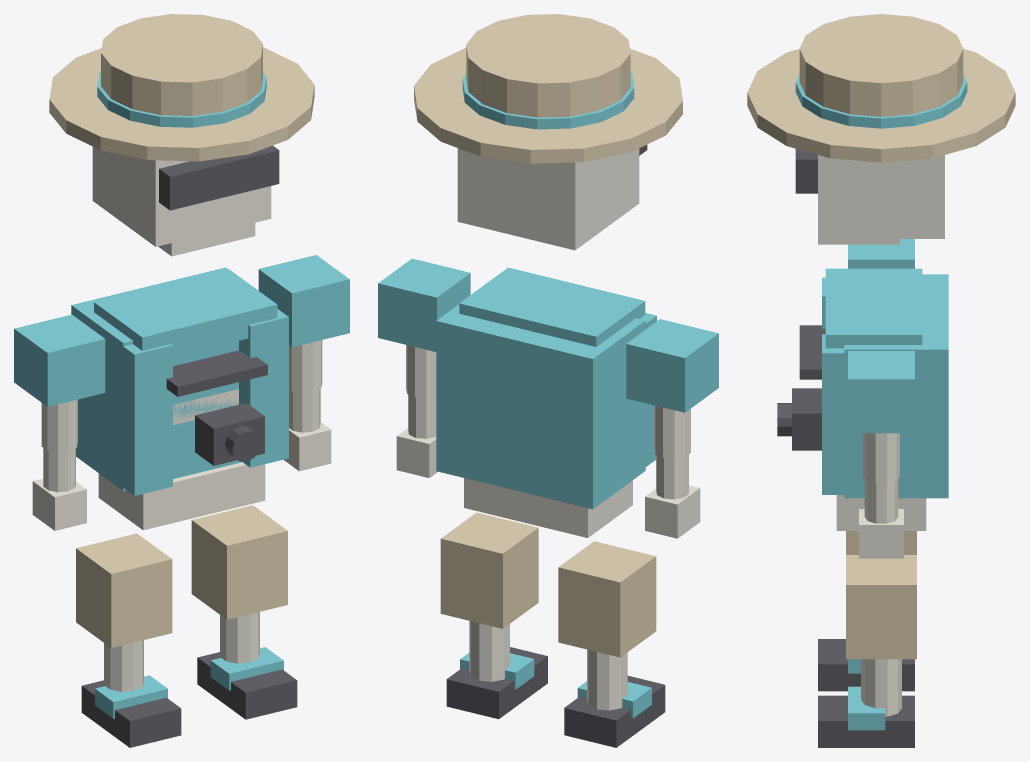
Rendered from skeleton-tourist.glb.
3 renders of one model, left to right at view 1: azimuth 30°, elevation 25°; view 2: azimuth 150°, elevation 25°; view 3: azimuth 270°, elevation 25°, orthographic.
Visible parts, largest first — view 1: HatCrown, HatBrim, ShirtCollar, Shorts_R, Shorts_L, Skull, ShirtBack, ShirtLapel_L, Sleeve_L, Pelvis, Sleeve_R, ShirtLapel_R (+19 smaller); view 2: ShirtBack, HatCrown, HatBrim, Skull, Shorts_L, Shorts_R, ShirtCollar, Sleeve_L, Sleeve_R, Pelvis, Sandal_R, Sandal_L (+12 smaller); view 3: HatCrown, HatBrim, Skull, ShirtBack, ShirtCollar, Shorts_R, Sleeve_R, ShirtLapel_R, Sandal_R, HatBand, Sandal_L, Femur_R (+12 smaller).
Boxes of the visible parts, <box> form: HatCrown: <box>101,14,262,115</box>; HatBrim: <box>49,47,314,161</box>; ShirtCollar: <box>94,269,277,356</box>; Shorts_R: <box>191,505,287,619</box>; Shorts_L: <box>76,533,172,647</box>; Skull: <box>92,146,271,246</box>; ShirtBack: <box>71,267,277,490</box>; ShirtLapel_L: <box>116,341,172,495</box>; Sleeve_L: <box>14,314,105,406</box>; Pelvis: <box>98,462,265,530</box>; Sleeve_R: <box>258,255,349,347</box>; ShirtLapel_R: <box>239,309,288,467</box>; ShirtBack: <box>436,304,645,509</box>; HatCrown: <box>466,14,630,117</box>; HatBrim: <box>414,48,682,163</box>; Skull: <box>457,148,639,250</box>; Shorts_L: <box>558,541,656,657</box>; Shorts_R: <box>440,512,538,628</box>; ShirtCollar: <box>459,267,645,346</box>; Sleeve_L: <box>626,319,718,412</box>; Sleeve_R: <box>378,258,470,351</box>; Pelvis: <box>464,478,632,537</box>; Sandal_R: <box>446,647,547,719</box>; Sandal_L: <box>564,675,665,747</box>; HatCrown: <box>799,14,963,116</box>; HatBrim: <box>747,49,1015,162</box>; Skull: <box>818,155,944,238</box>; ShirtBack: <box>844,274,948,498</box>; ShirtCollar: <box>825,268,922,348</box>; Shorts_R: <box>846,555,916,659</box>; Sleeve_R: <box>848,351,914,433</box>; ShirtLapel_R: <box>822,334,858,494</box>; Sandal_R: <box>818,695,914,747</box>; HatBand: <box>795,75,967,128</box>; Sandal_L: <box>818,639,914,691</box>; Femur_R: <box>861,659,901,716</box>.
Size of the model in its own units: 0.94 by 1.95 by 0.72.
